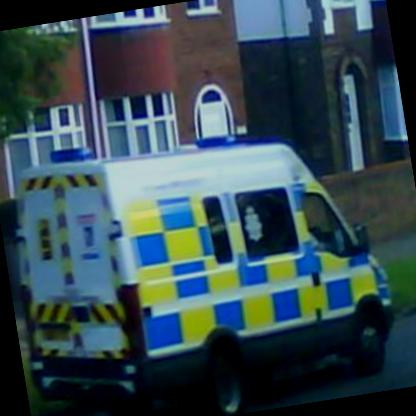truck: (0, 97, 405, 415)
